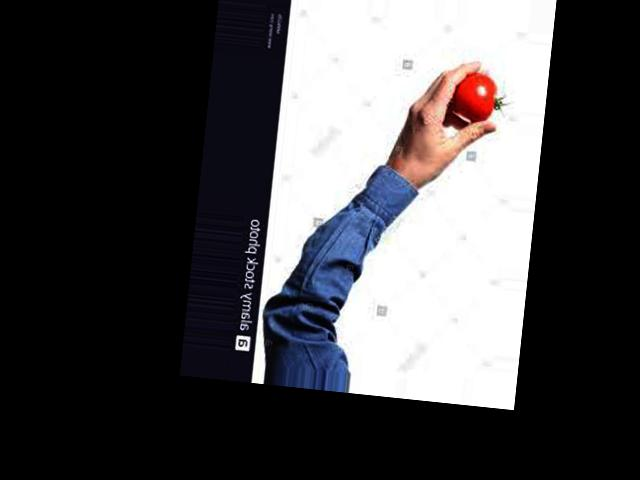tomato: (453, 70, 497, 121)
